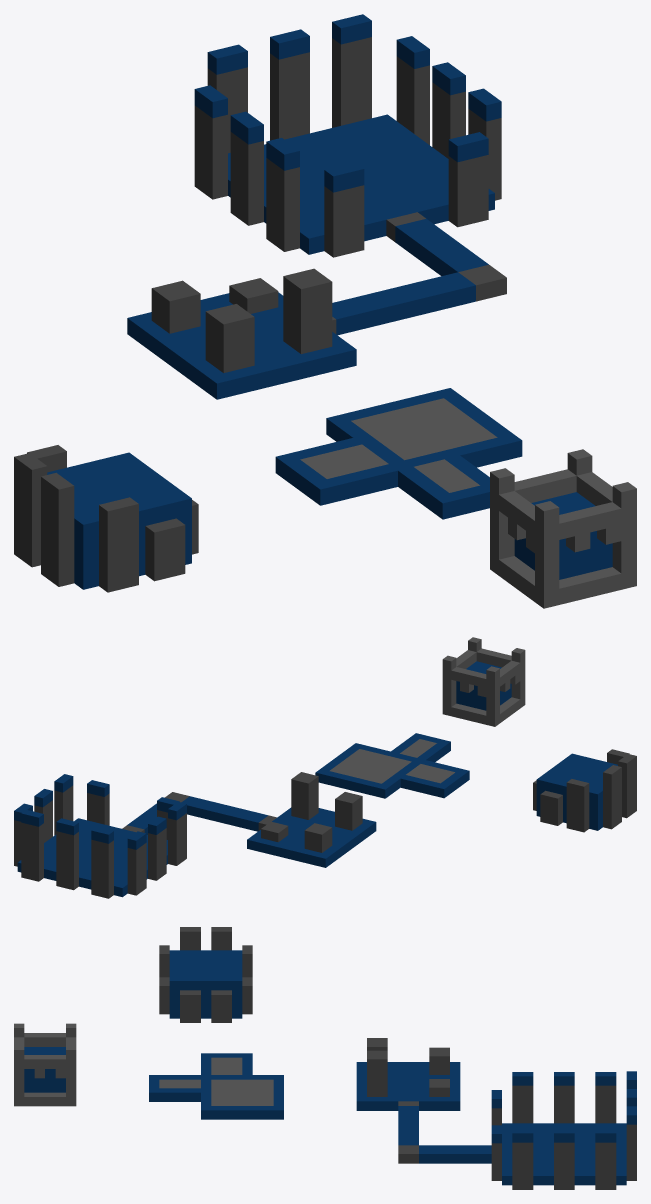
The model's file is level2.obj.
The picture shows the model from 3 angles, top to bottom: view 1: azimuth 30°, elevation 25°; view 2: azimuth 150°, elevation 25°; view 3: azimuth 270°, elevation 25°; orthographic projection. The views are drawn at different scales.
Visible parts, largest first — view 1: map2; view 2: map2; view 3: map2.
Part boxes in pixels (bbox=[...]): map2: bbox=[14, 14, 636, 608]; map2: bbox=[14, 637, 636, 898]; map2: bbox=[14, 927, 636, 1189].
Size of the model in its own units: 47 by 7 by 60.
